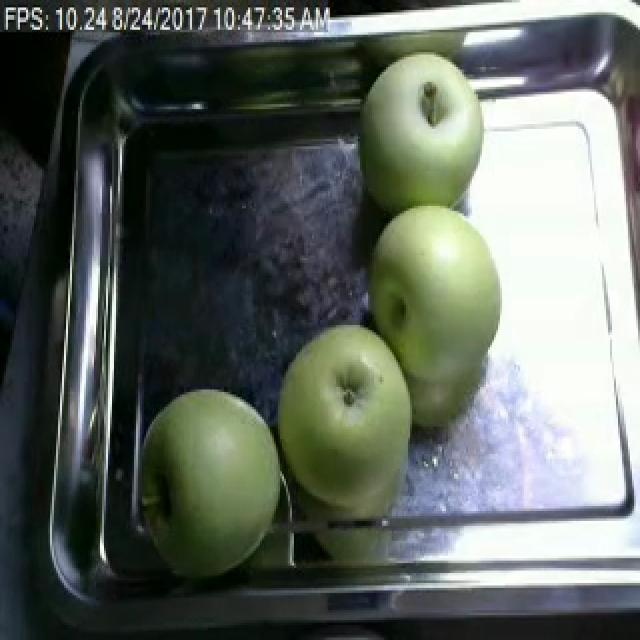50-_ripeness: (258, 319, 419, 523), (135, 375, 289, 588), (372, 208, 518, 377), (354, 52, 509, 207)
